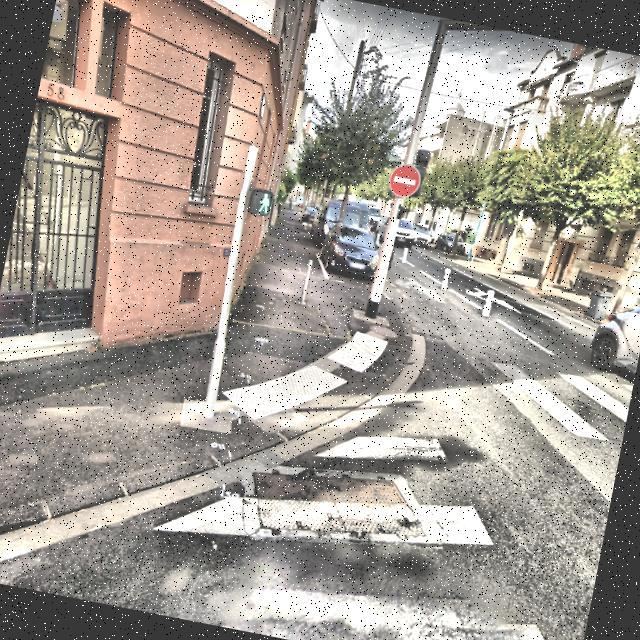green_light: (254, 188, 273, 214)
